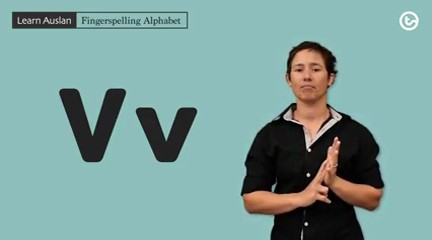V: (301, 131, 349, 207)
